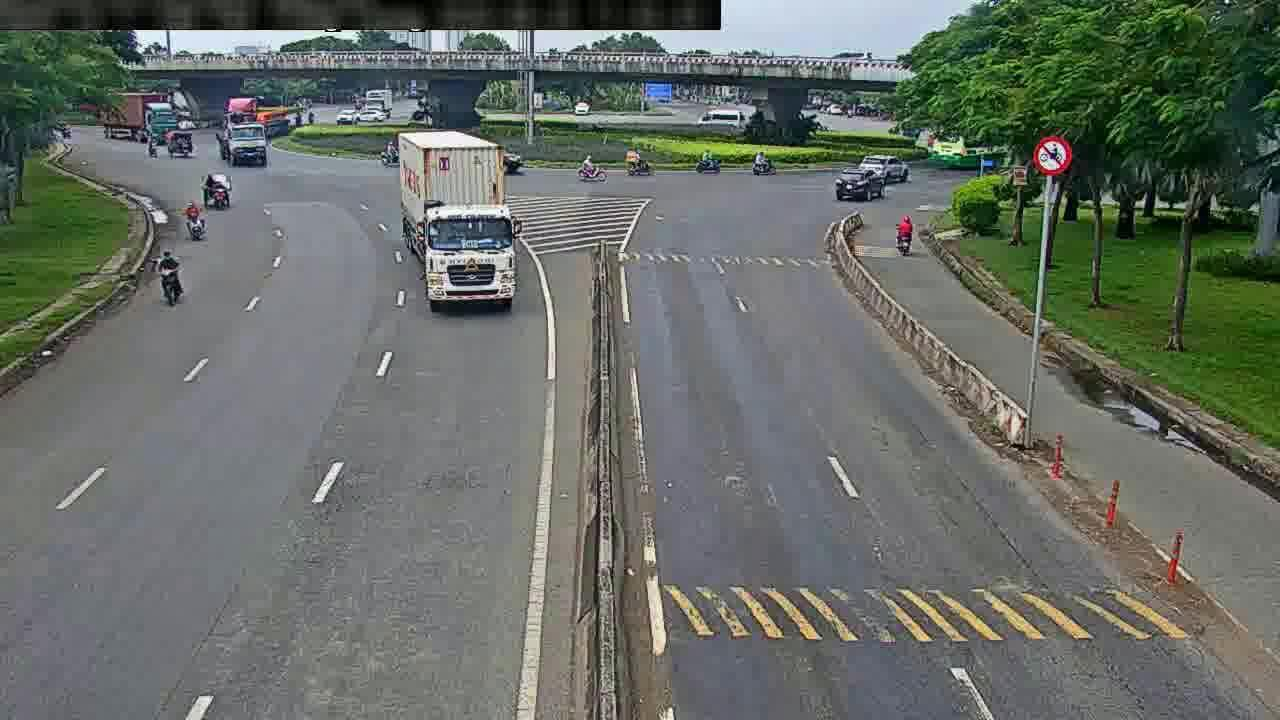8: (391, 123, 525, 317), (209, 115, 272, 170)
container: (832, 164, 885, 200), (857, 152, 909, 183)
motorbike: (155, 247, 190, 310), (179, 201, 211, 244), (891, 211, 918, 259), (572, 153, 609, 185), (620, 147, 657, 176), (692, 146, 723, 175), (747, 148, 779, 176)
